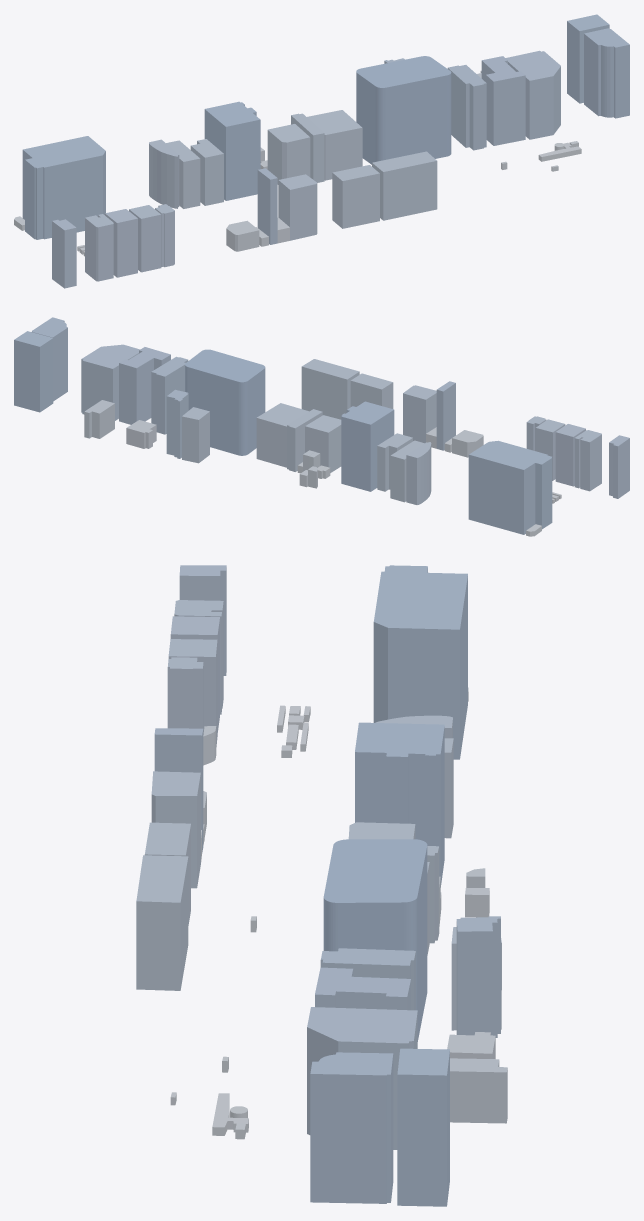
3 renders of one model, top to bottom at view 1: azimuth 30°, elevation 25°; view 2: azimuth 150°, elevation 25°; view 3: azimuth 270°, elevation 25°, orthographic. The views are drawn at different scales.
Size of the model in its own units: 468 by 59.91 by 137.
